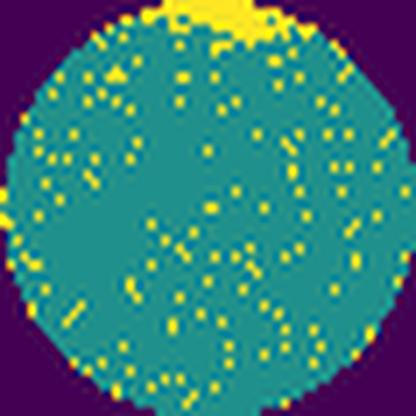Edge-Loc: (137, 0, 320, 52)
